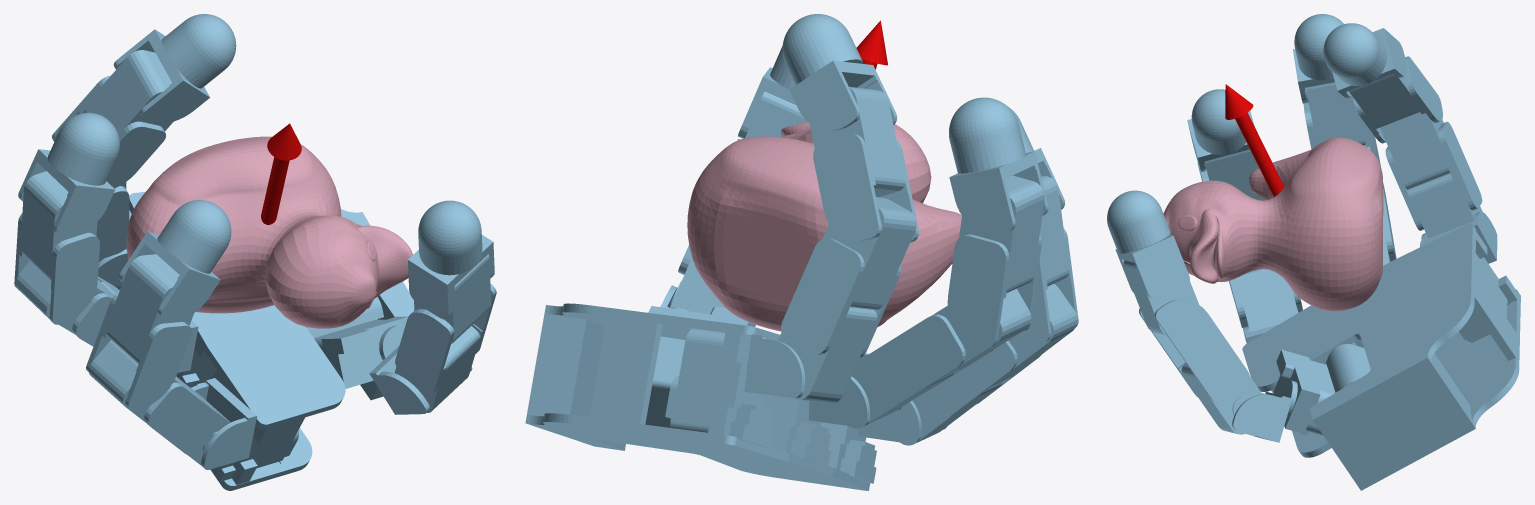
3 views of the same model, side by side, from view 1: azimuth 30°, elevation 25°; view 2: azimuth 150°, elevation 25°; view 3: azimuth 270°, elevation 25° (orthographic). The views are drawn at different scales.
Parts seen in each view (by area): view 1: world, rubber_duck.stl; view 2: world, rubber_duck.stl; view 3: world, rubber_duck.stl.
Part boxes in pixels (box(x1,y1,x2,y2)): world: box(14, 14, 496, 490); rubber_duck.stl: box(126, 136, 412, 328); world: box(525, 14, 1078, 490); rubber_duck.stl: box(687, 122, 961, 331); world: box(1107, 14, 1520, 490); rubber_duck.stl: box(1163, 137, 1383, 311).
Bounding box in the file's own units: 0.1675 × 0.1873 × 0.1759.
